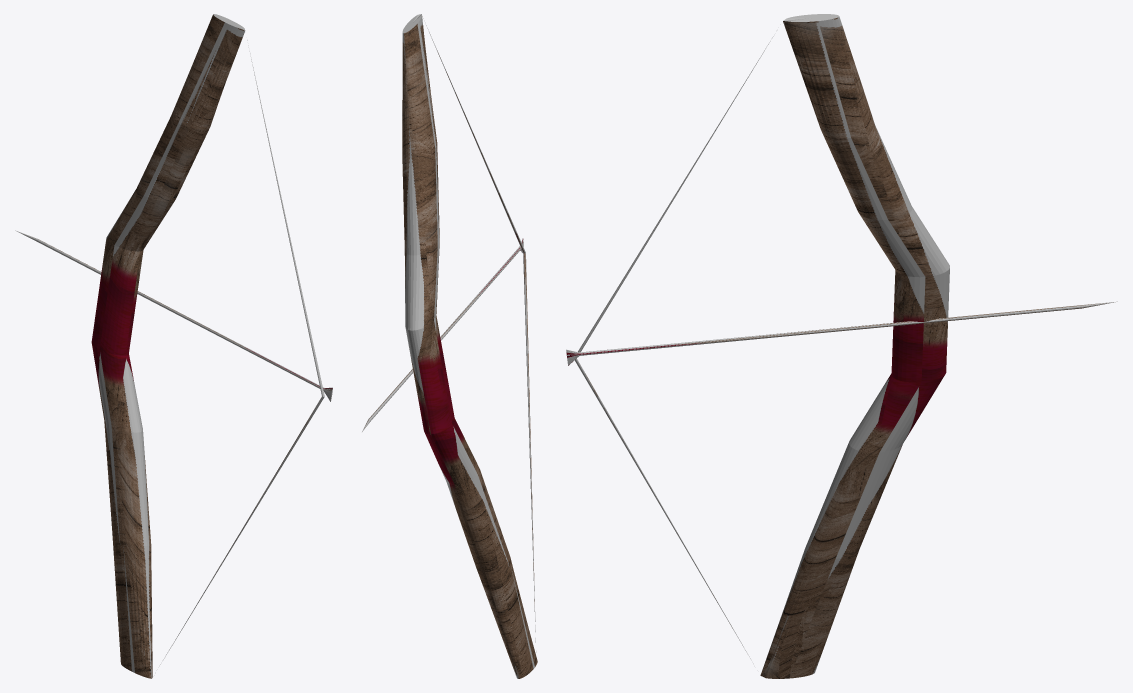
Rendered from Arco10.obj.
3 renders of one model, left to right at view 1: azimuth 30°, elevation 25°; view 2: azimuth 150°, elevation 25°; view 3: azimuth 270°, elevation 25°, orthographic. The views are drawn at different scales.
Parts seen in each view (by area): view 1: Cilindro; view 2: Cilindro; view 3: Cilindro.
Part boxes in pixels (x1,y1,x2,y2): Cilindro: [15, 14, 332, 678]; Cilindro: [362, 14, 537, 678]; Cilindro: [566, 14, 1117, 678].
Bounding box in the file's own units: 0.1886 × 0.9705 × 0.6791.
1 material, 1 textured.
